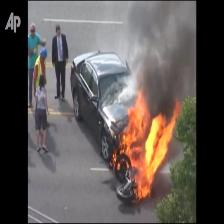fire: (127, 113, 167, 201)
smoke: (135, 6, 191, 100)
